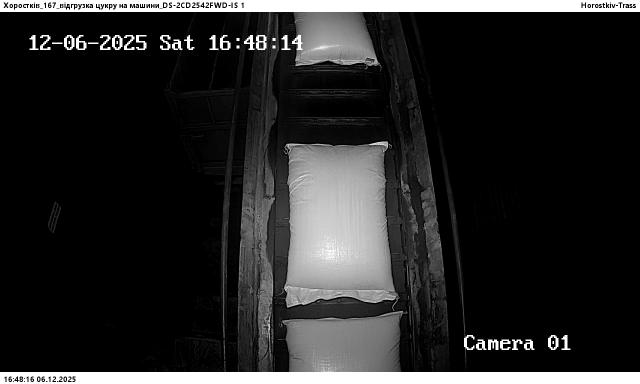bag: (286, 141, 399, 308), (282, 310, 403, 372), (294, 12, 378, 66)
